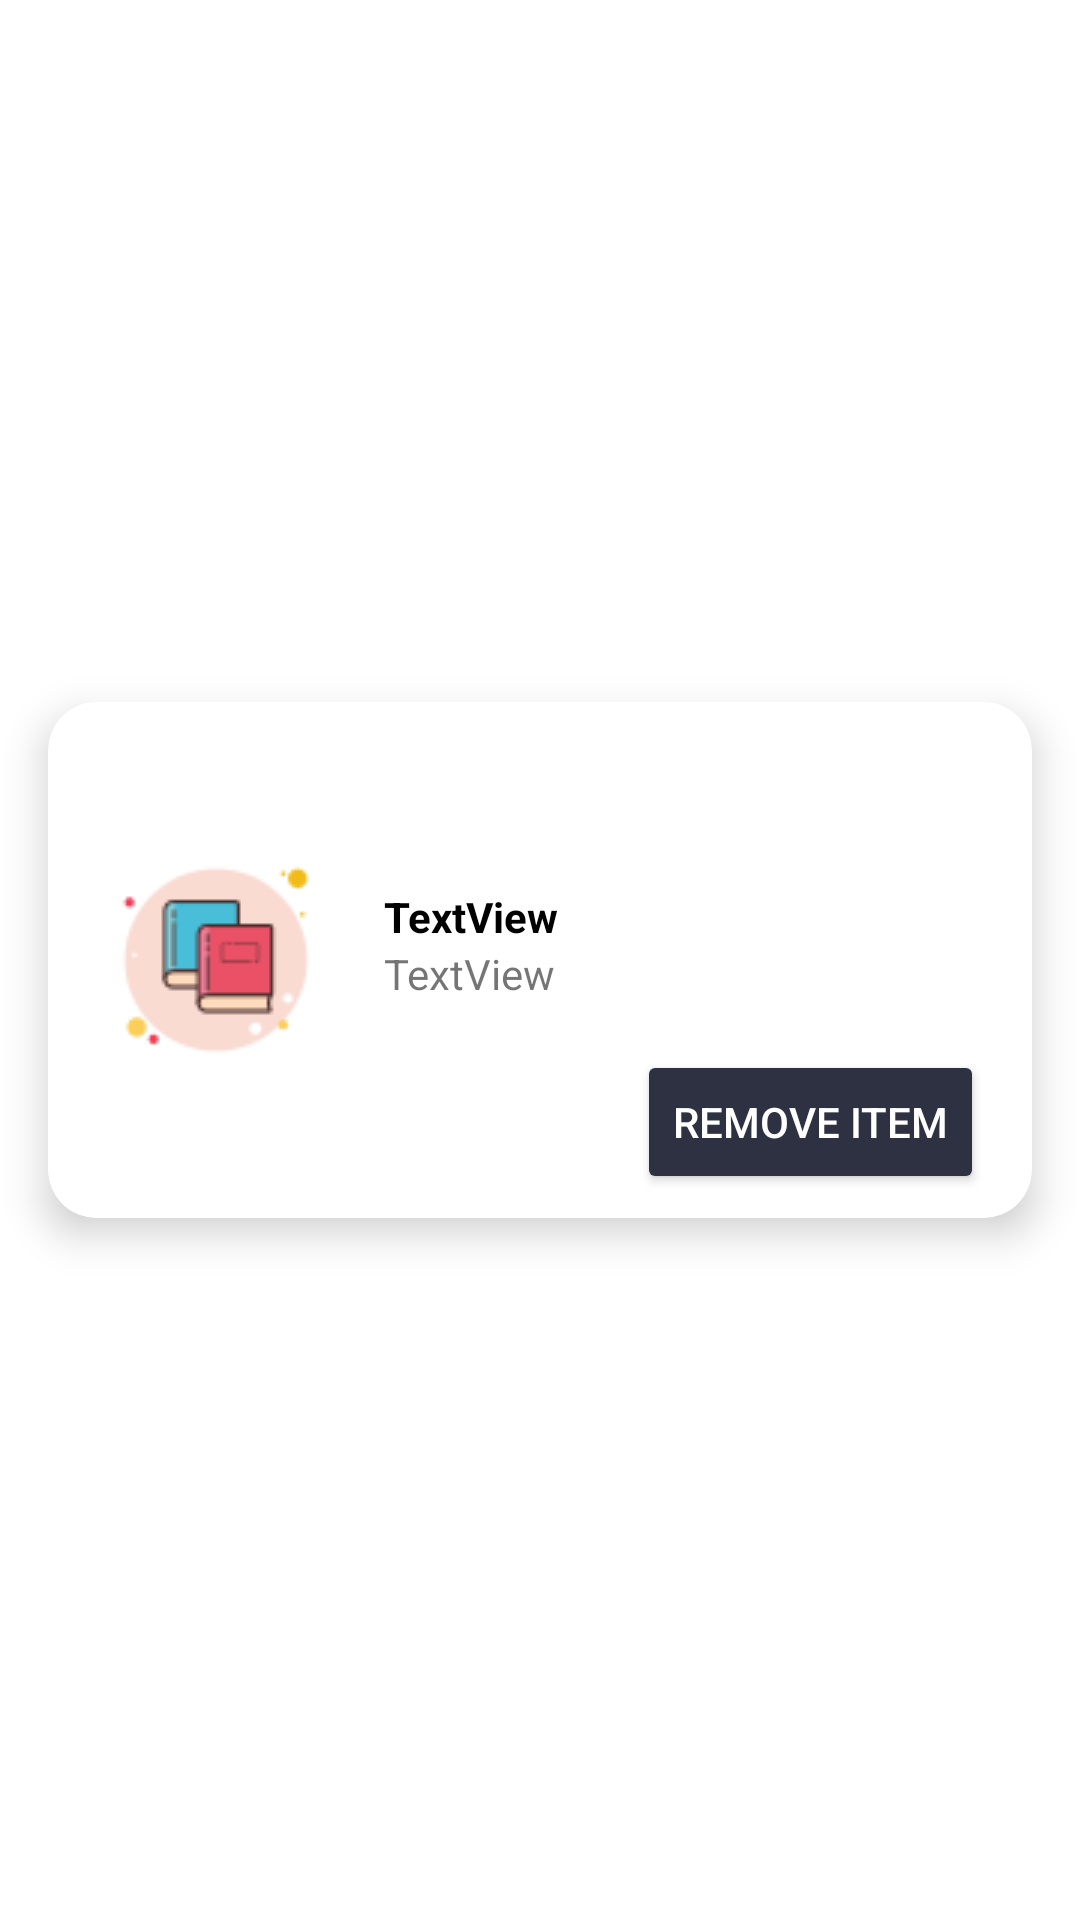

Where to tap for icons on this 1080px×1920px app screen, as (x,y):
books: (216,959)
